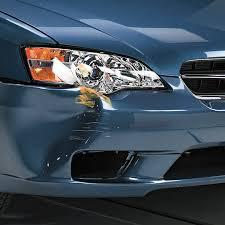front-bumper-dent: (4, 96, 161, 180)
